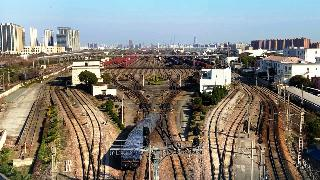train: (120, 111, 160, 170)
